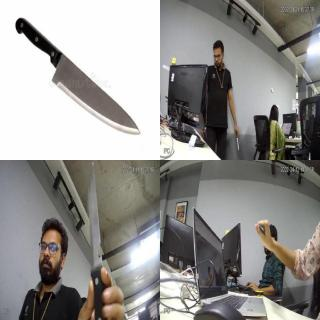knife: (38, 42, 140, 136), (86, 162, 108, 300), (233, 128, 243, 150), (257, 220, 265, 236)
